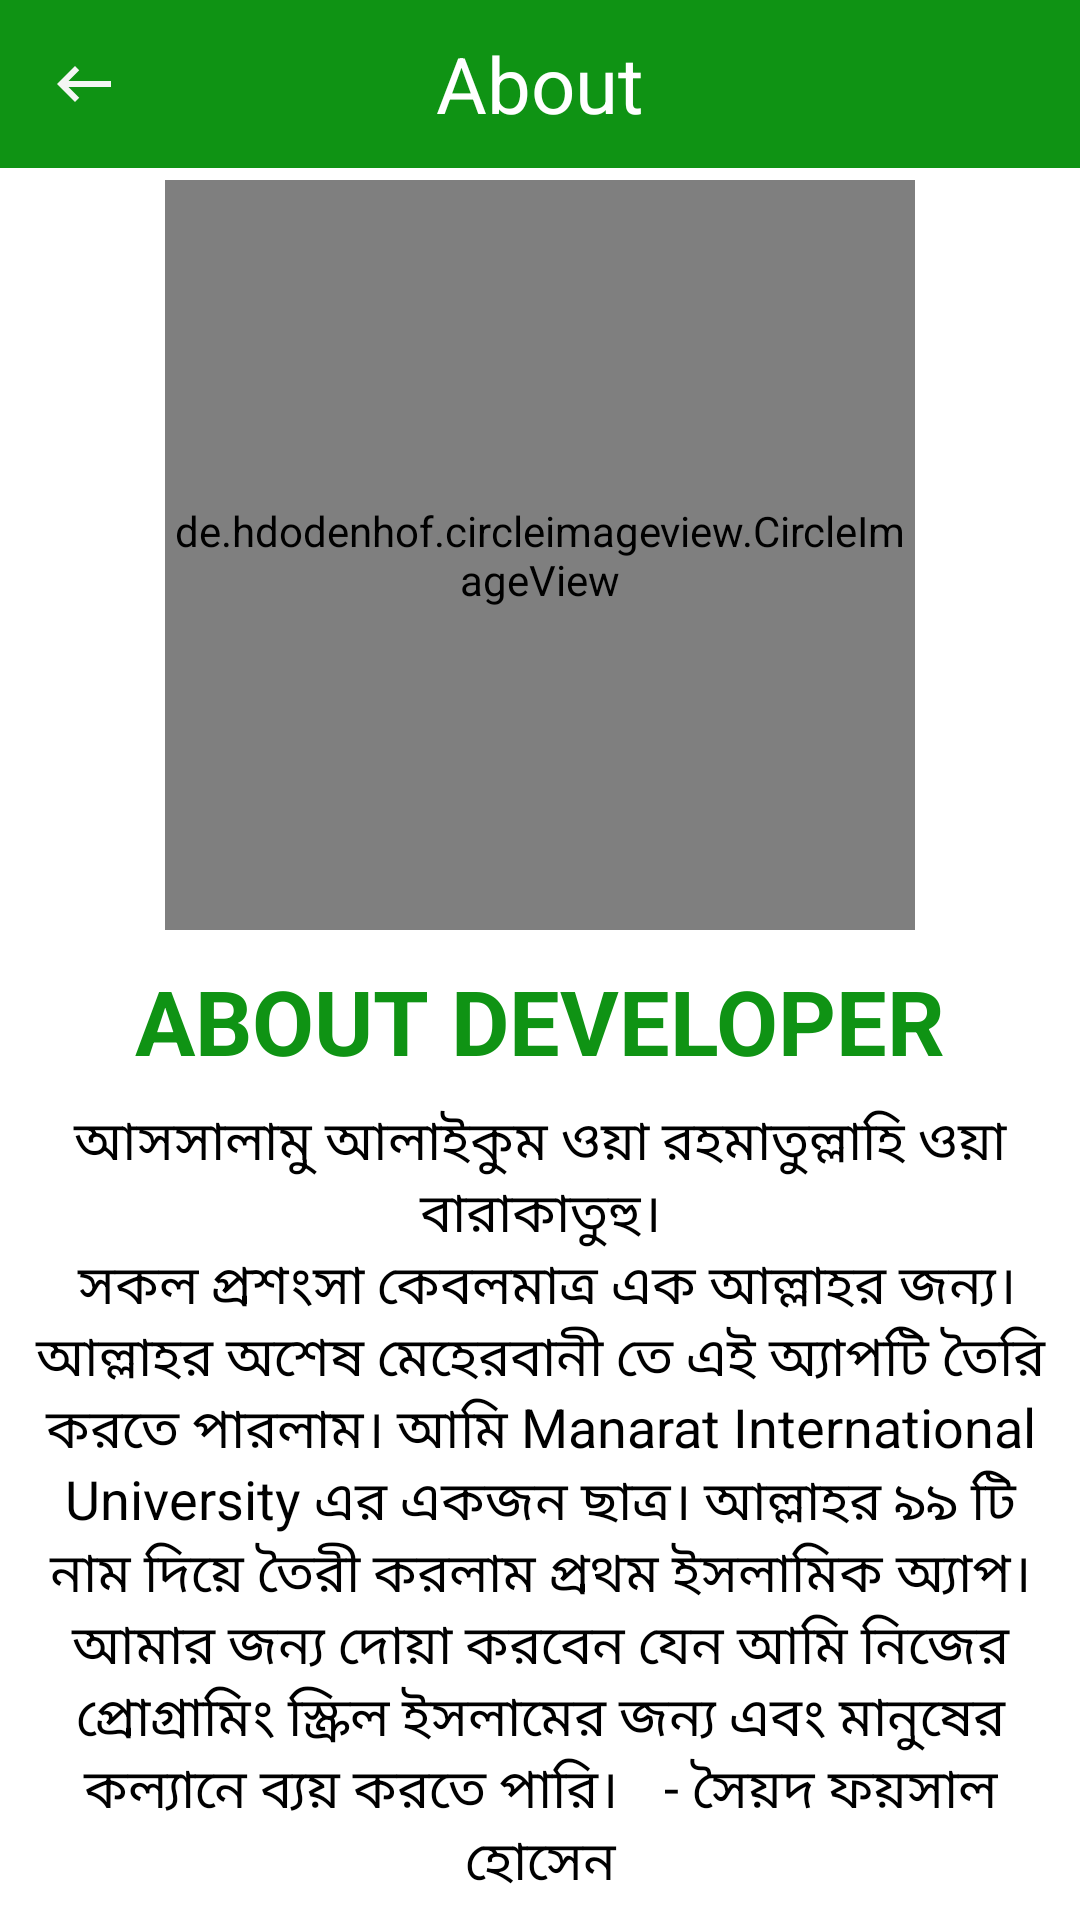

Point at icon controls on the screen. Image size 1080px×1920px, points as (x,y).
keyboard backspace: (84,84)
